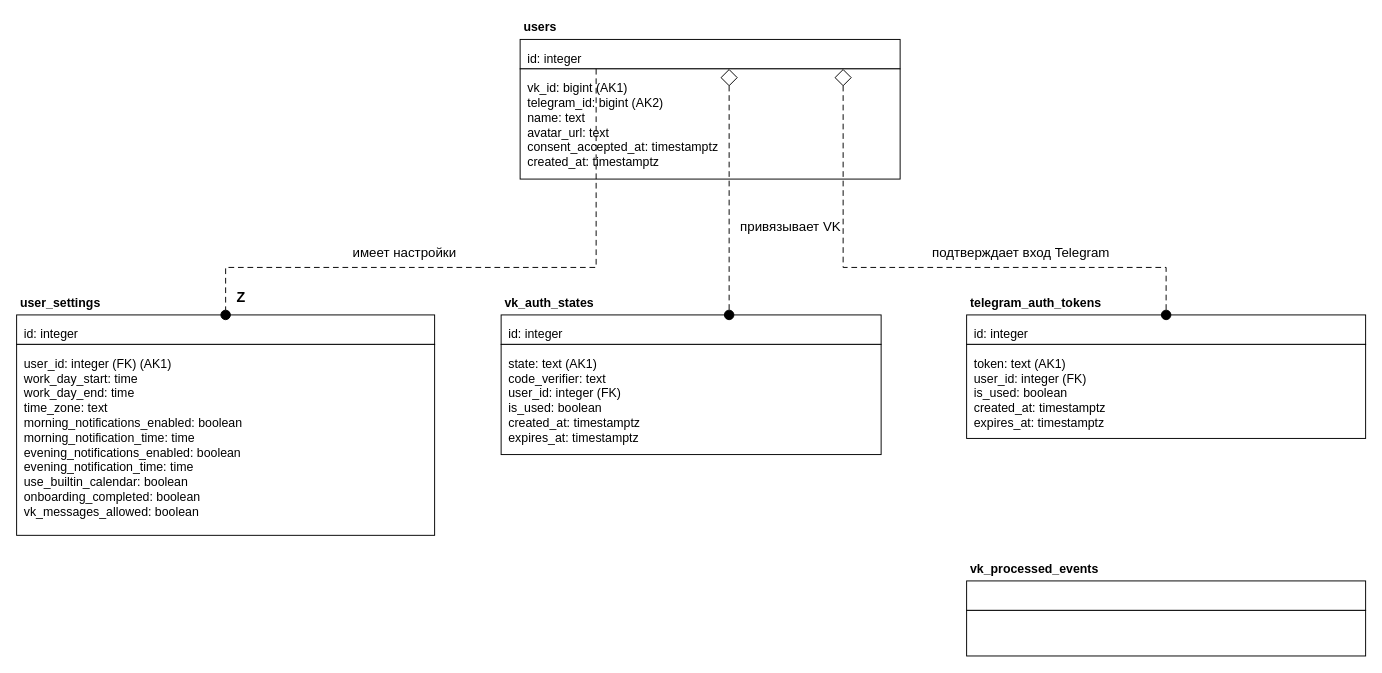
Image size: 1382x673. Some labels were removed from this diagram. The centre of each missing label's shape, as x and y in pixels:
event_id: text: the point at 1166,595
event_type: text processed_at: timestamptz: the point at 1166,632
